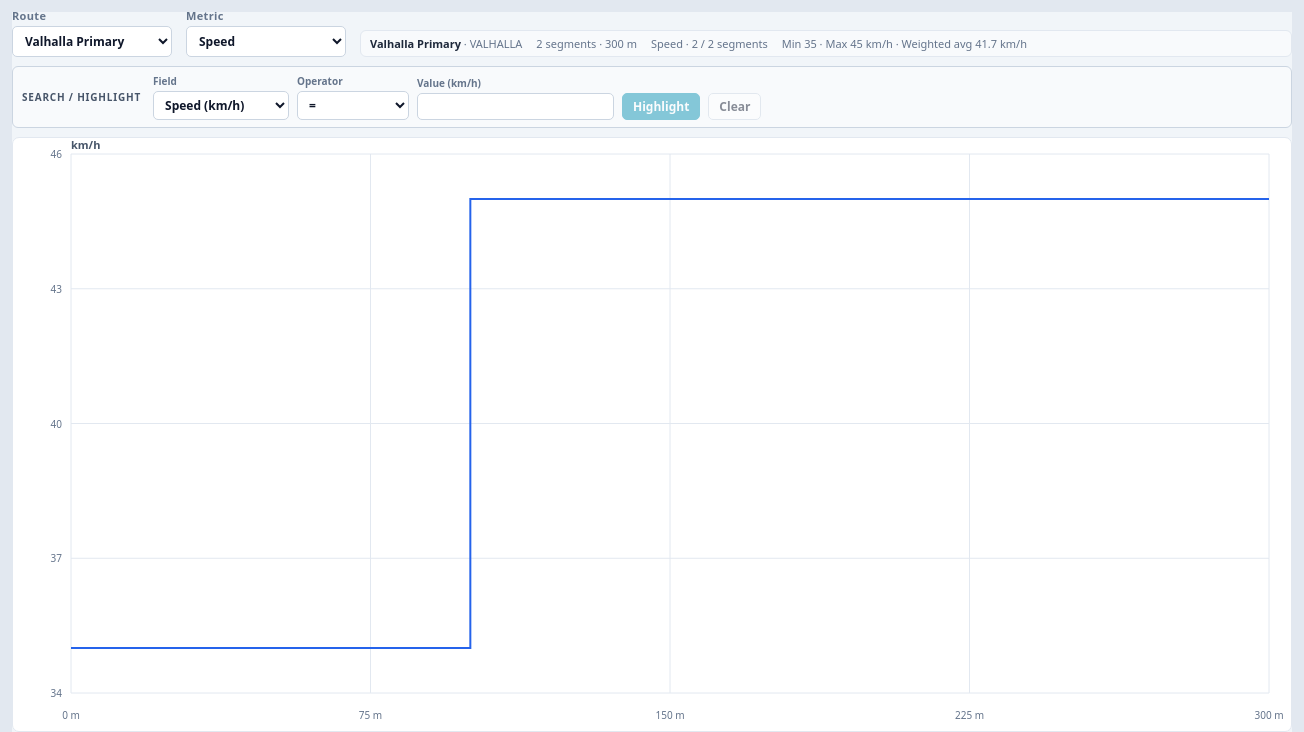
Test: Route Analysis › highlights a query and reports count, distance, and route percentage
Type "35" into the number field named "Search value".
click(516, 106); type("35")  # box [417,93,614,120]
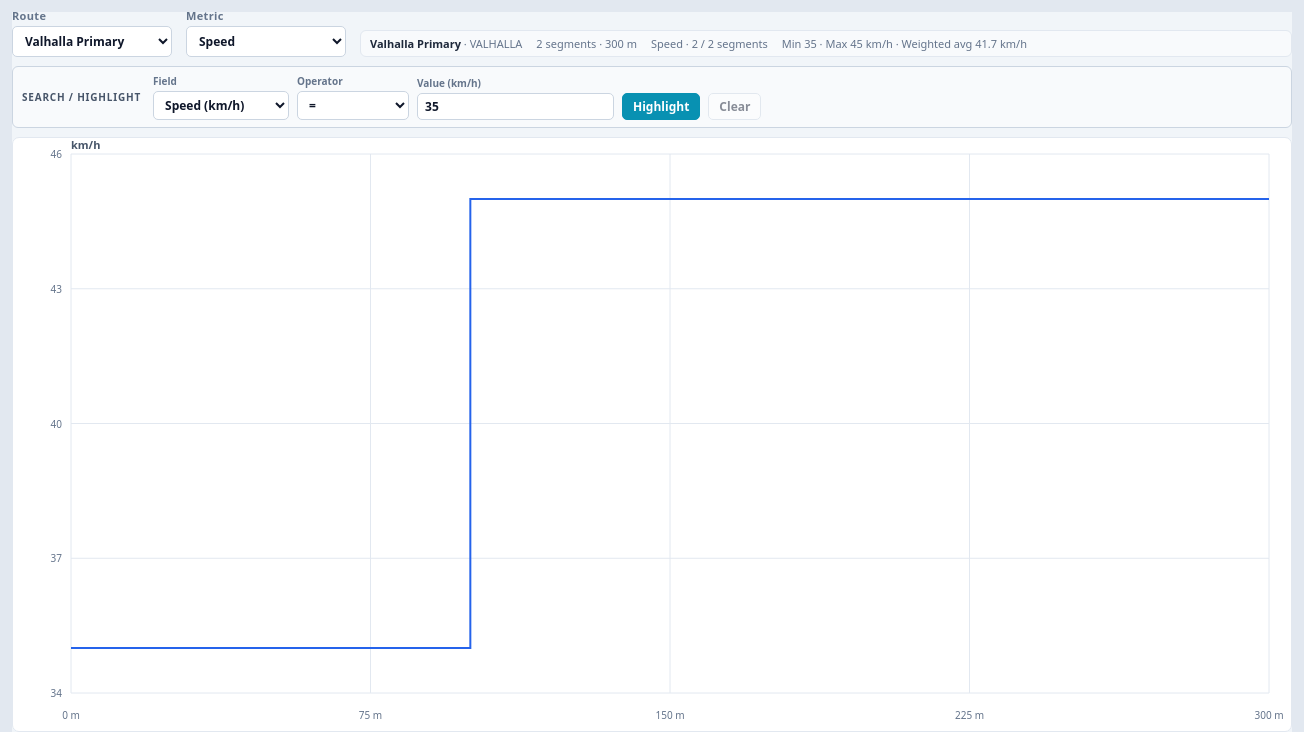
Click the button "Highlight".
click(661, 106)  # box [622,93,700,120]
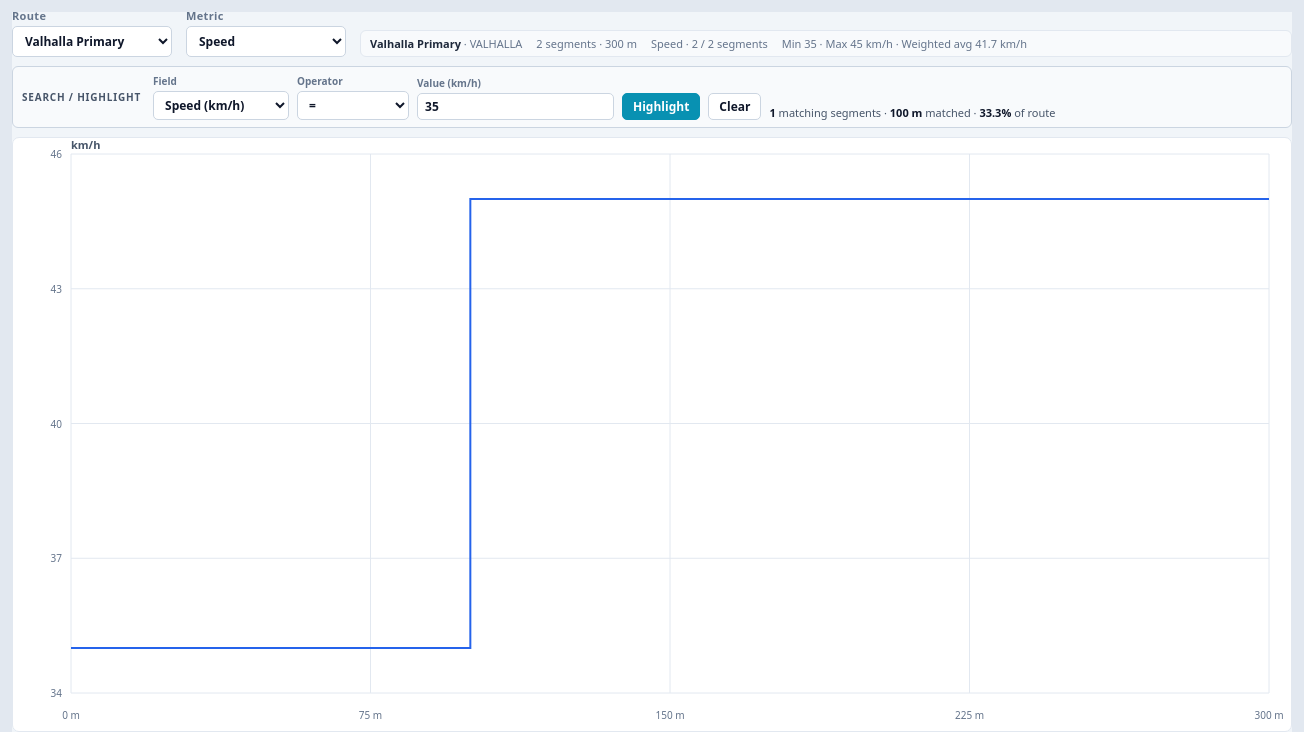
Result: the element named "Match statistics" shows "1 matching segments" at [770,105,1056,120]
Result: the element named "Match statistics" shows "100 m matched" at [770,105,1056,120]
Result: the element named "Match statistics" shows "33.3% of route" at [770,105,1056,120]
